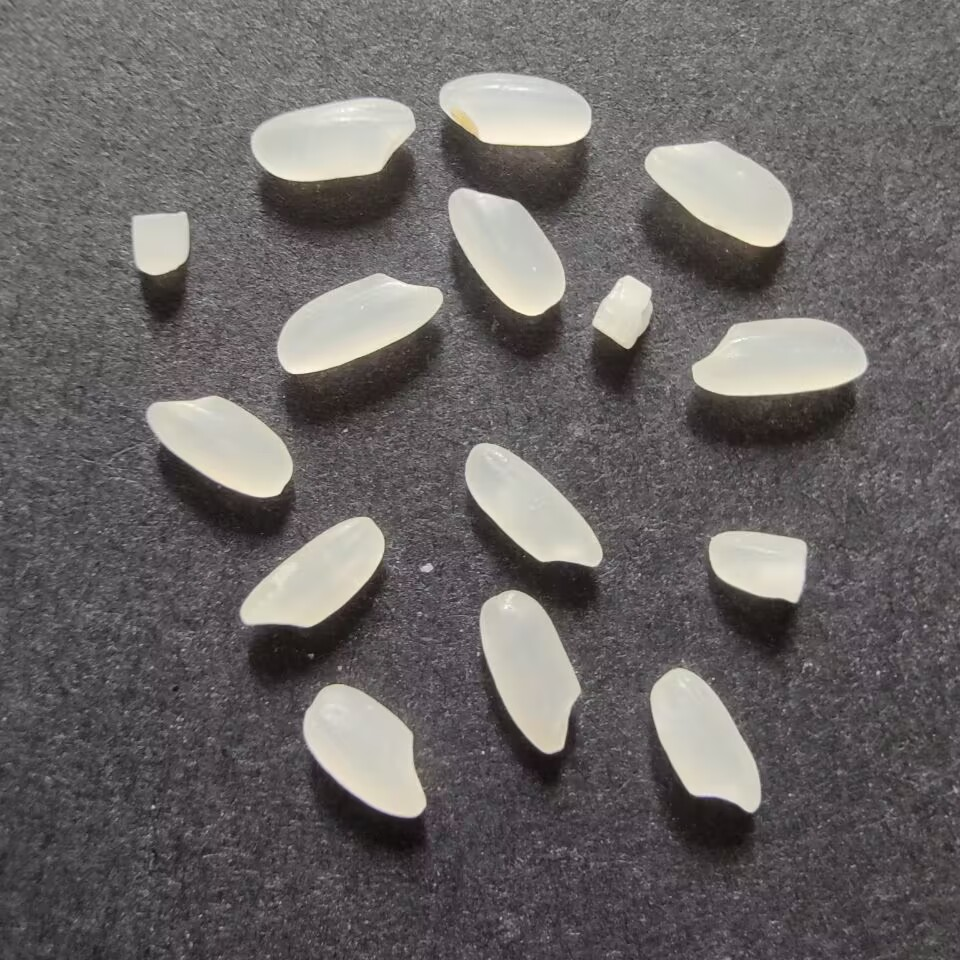broken: (705, 524, 815, 610), (123, 205, 200, 281), (587, 269, 654, 351)
rice: (640, 660, 771, 819), (267, 268, 449, 378), (459, 439, 609, 569), (300, 679, 434, 824), (478, 586, 584, 764), (637, 136, 797, 253), (233, 510, 388, 630), (144, 392, 298, 505), (443, 183, 570, 319), (688, 311, 873, 401), (250, 91, 422, 184), (432, 70, 601, 153)
